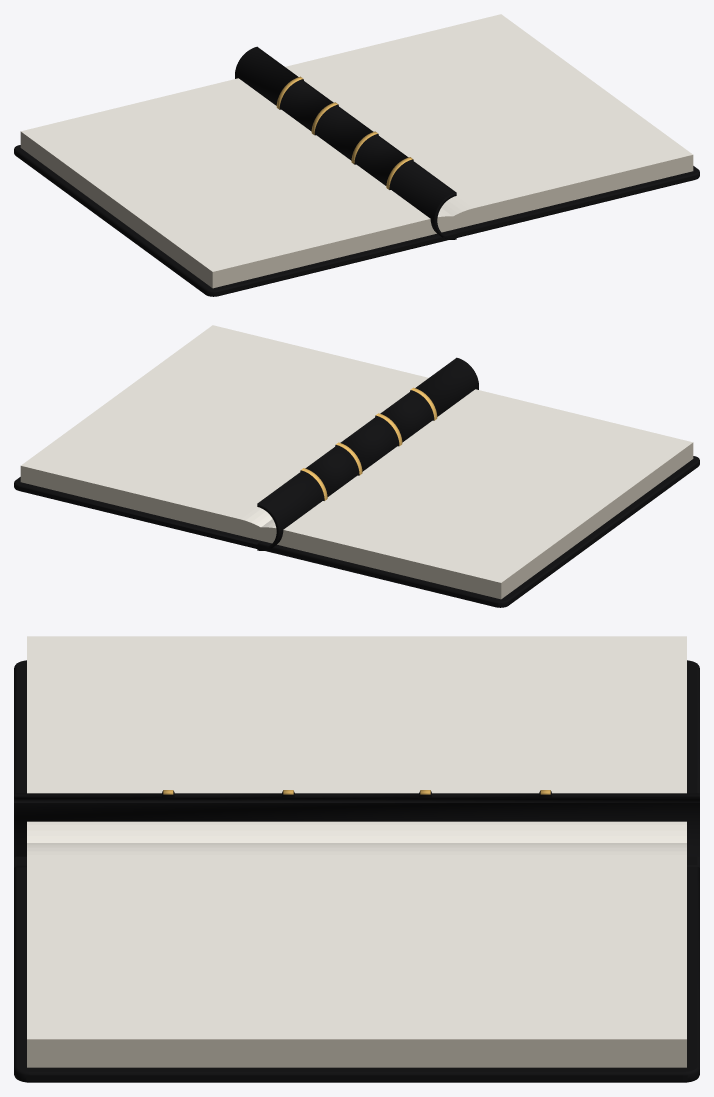
File: book.glb
3 renders of one model, top to bottom at view 1: azimuth 30°, elevation 25°; view 2: azimuth 150°, elevation 25°; view 3: azimuth 270°, elevation 25°, orthographic. The views are drawn at different scales.
Visible parts, largest first — view 1: LeftHalf, RightHalf, Spine; view 2: LeftHalf, RightHalf, Spine; view 3: RightHalf, LeftHalf, Spine.
Part boxes in pixels (x1=…): LeftHalf: x1=14, y1=78, x2=456, y2=296; RightHalf: x1=285, y1=14, x2=699, y2=237; Spine: x1=235, y1=46, x2=456, y2=239; LeftHalf: x1=257, y1=389, x2=699, y2=607; RightHalf: x1=14, y1=325, x2=428, y2=548; Spine: x1=257, y1=357, x2=478, y2=550; RightHalf: x1=14, y1=843, x2=699, y2=1082; LeftHalf: x1=14, y1=636, x2=699, y2=867; Spine: x1=14, y1=790, x2=699, y2=859.
Bounding box in the file's own units: 2.67 × 0.26 × 1.87.
